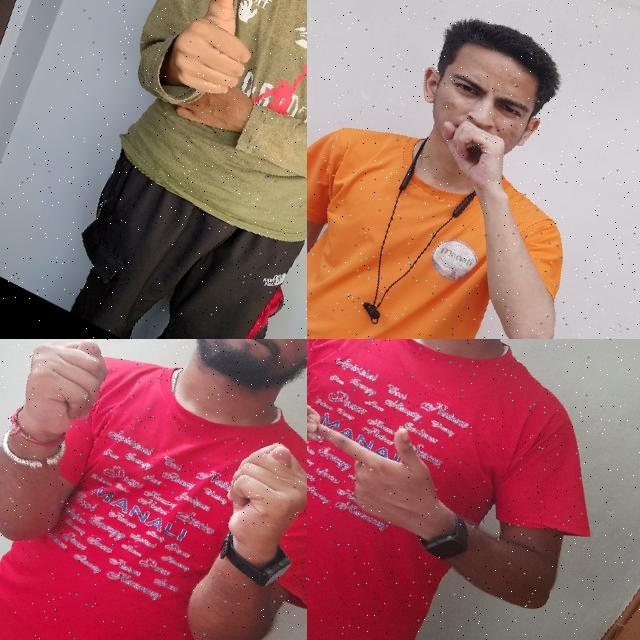Dulya: (192, 424, 307, 592), (0, 339, 140, 473)
Fist Mouth: (374, 0, 593, 224)
Five Fathers: (307, 339, 476, 561)
Thumbs Up: (138, 0, 297, 125)
